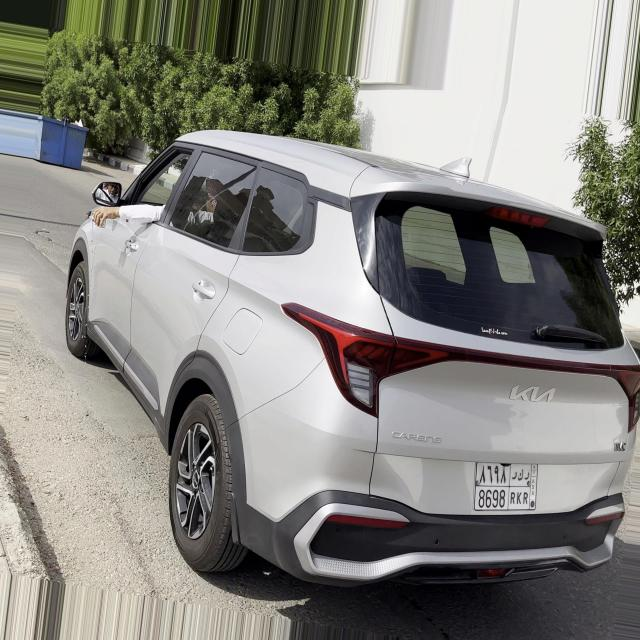Car-plate: (468, 443, 549, 519)
